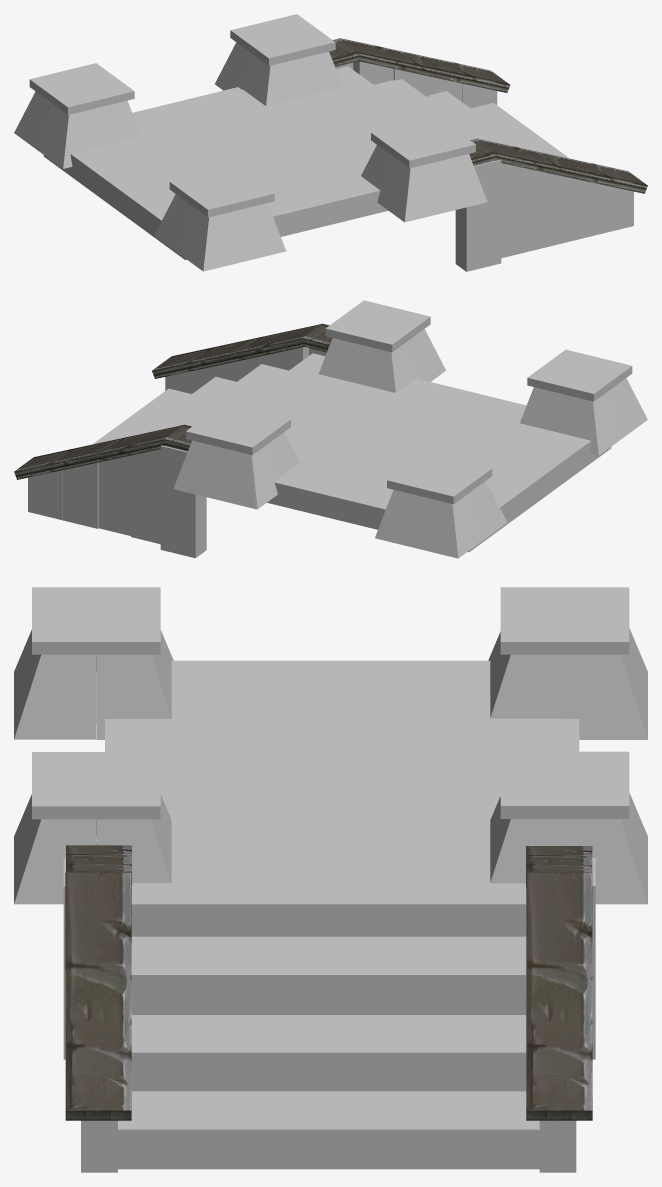
Rendered from Stairup all directions 1.fbx.
3 renders of one model, top to bottom at view 1: azimuth 30°, elevation 25°; view 2: azimuth 150°, elevation 25°; view 3: azimuth 270°, elevation 25°, orthographic. The views are drawn at different scales.
Parts seen in each view (by area): view 1: Cube.1337; view 2: Cube.1337; view 3: Cube.1337.
Boxes of the visible parts, x1,y1,x2,y2 form: Cube.1337: (14,14,647,271); Cube.1337: (14,300,647,558); Cube.1337: (14,587,647,1172).
Bounding box in the file's own units: 656 × 183 × 467.
